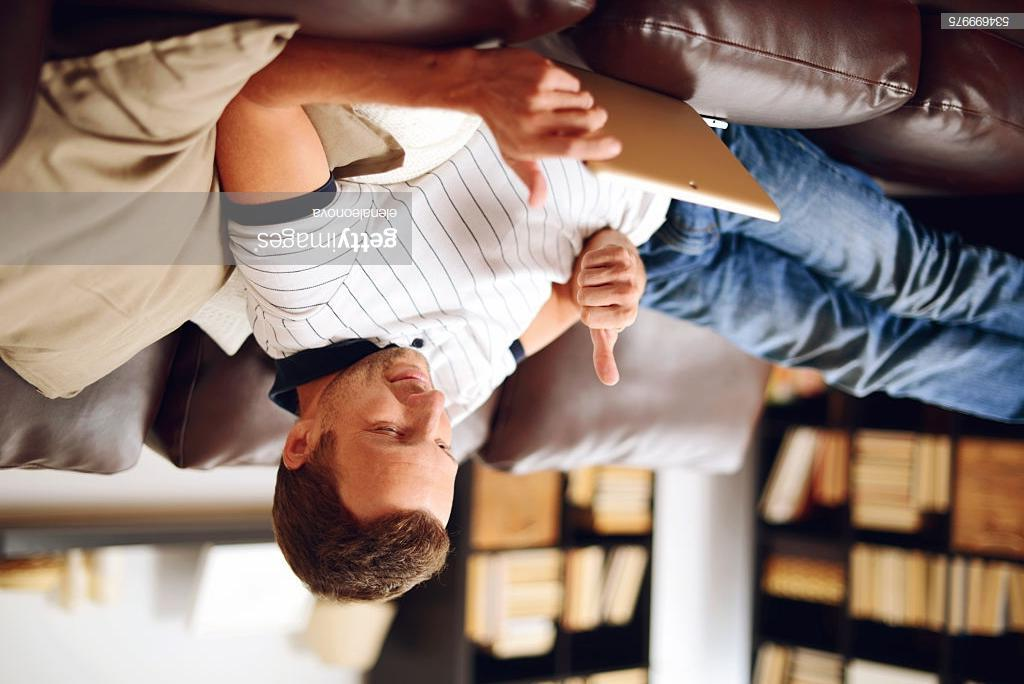thumbsdown: (576, 243, 639, 386)
